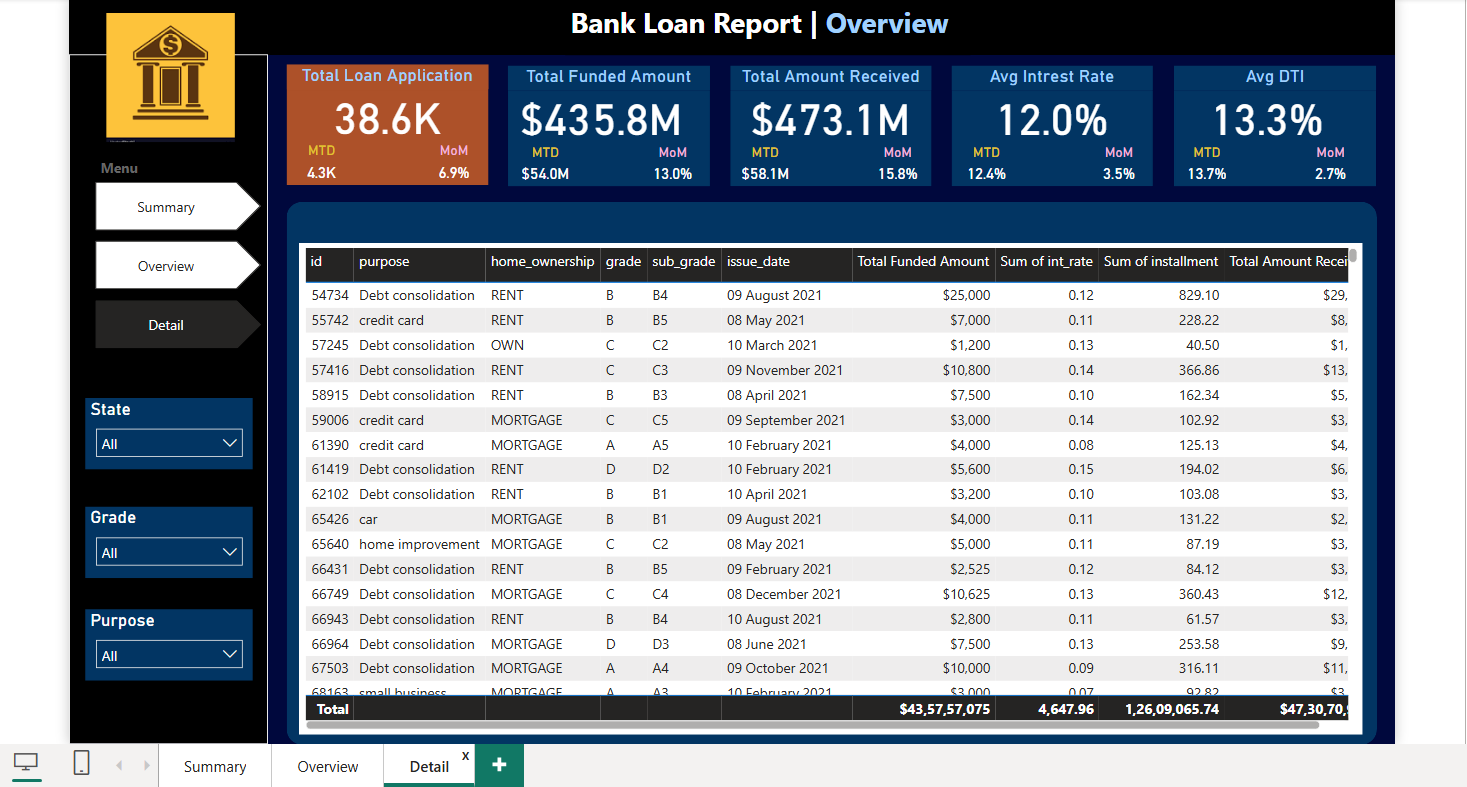

The dashboard page shown, as its layout file describes it:
{"tool":"powerbi","page":{"name":"Detail","canvas":[1280,720],"ordinal":2},"visuals":[{"type":"shape","box":[0,0,1280.3,55],"z":0},{"type":"pageNavigator","box":[25.1,177.4,160.5,161.9],"z":0,"group":"g7"},{"type":"shape","box":[0,54.9,192.1,665.5],"z":1000},{"type":"textbox","box":[25.1,150,75.5,27.4],"z":1000,"group":"g7"},{"type":"textbox","box":[478.9,0,391.1,54.9],"z":2000},{"type":"image","box":[10,10,177,134.5],"z":2000,"group":"g7"},{"type":"group","id":"g1","title":"Group 1","box":[210,64,195.4,117],"z":3000,"group":"g6"},{"type":"shape","title":"Total Loan Application","box":[210.5,64,194.9,116.6],"z":3000,"group":"g1"},{"type":"shape","title":"Avg Intrest Rate","box":[852.5,65,194.2,116.6],"z":3000,"group":"g3"},{"type":"shape","title":"Total Funded Amount","box":[424,65.1,195,117],"z":3000,"group":"g4"},{"type":"shape","title":"Total Amount Received","box":[638.5,65.1,194.2,116.6],"z":3000,"group":"g2"},{"type":"shape","title":"Avg DTI","box":[1066.6,65.1,195,117],"z":3000,"group":"g5"},{"type":"group","id":"g2","title":"Group 1","box":[638,65.1,195.4,117],"z":4000,"group":"g6"},{"type":"card","fields":{"Values":["Table.Total Loan Application"]},"box":[229.3,91.7,156.8,48.3],"z":4000,"group":"g1"},{"type":"card","fields":{"Values":["Table.Average Intrest Rate"]},"box":[852.6,92.7,191.2,48.3],"z":4000,"group":"g3"},{"type":"card","fields":{"Values":["Table.Total Funded Amount"]},"box":[424,92.8,180.8,48.3],"z":4000,"group":"g4"},{"type":"card","fields":{"Values":["Table.Total Amount Received"]},"box":[638.6,92.8,191.2,48.3],"z":4000,"group":"g2"},{"type":"card","fields":{"Values":["Table.Average DTI"]},"box":[1066.6,92.9,179.4,48.3],"z":4000,"group":"g5"},{"type":"group","id":"g3","title":"Group 1","box":[852,65,195.4,117],"z":5000,"group":"g6"},{"type":"card","title":"MTD","fields":{"Values":["Table.MTD Loan Application"]},"box":[210,139.9,67.6,41],"z":5000,"group":"g1"},{"type":"card","title":"MTD","fields":{"Values":["Table.MTD Average Intrest Rate"]},"box":[852,140.9,67.3,41],"z":5000,"group":"g3"},{"type":"card","title":"MTD","fields":{"Values":["Table.MTD Total Amount Recieved"]},"box":[638,141,67.3,41],"z":5000,"group":"g2"},{"type":"card","title":"MTD","fields":{"Values":["Table.MTD TOtal Funded Amount"]},"box":[424,141.1,72.3,41],"z":5000,"group":"g4"},{"type":"card","title":"MTD","fields":{"Values":["Table.MTD Average DTI"]},"box":[1066,141.1,63.2,41],"z":5000,"group":"g5"},{"type":"group","id":"g4","title":"Group 2","box":[424,65.1,195,117],"z":6000,"group":"g6"},{"type":"card","title":"MoM","fields":{"Values":["Table.MOM Loan Application"]},"box":[337.9,139.9,67.6,41],"z":6000,"group":"g1"},{"type":"card","title":"MoM","fields":{"Values":["Table.MOM Average Intrest Rate"]},"box":[979.5,140.9,67.3,41],"z":6000,"group":"g3"},{"type":"card","title":"MoM","fields":{"Values":["Table.MOM Amount Recived"]},"box":[765.5,141,67.3,41],"z":6000,"group":"g2"},{"type":"card","title":"MoM","fields":{"Values":["Table.MOM Funded Amount"]},"box":[546.7,141.1,72.3,41],"z":6000,"group":"g4"},{"type":"card","title":"MoM","fields":{"Values":["Table.MOM Average DTI"]},"box":[1185.6,141.1,63.2,41],"z":6000,"group":"g5"},{"type":"group","id":"g5","title":"Group 1","box":[1066,65.1,195.6,117],"z":7000,"group":"g6"},{"type":"slicer","title":"State","fields":{"Values":["Financial_loan.address_state"]},"box":[15.1,385.6,161.9,68.6],"z":9000},{"type":"slicer","title":"Grade","fields":{"Values":["Financial_loan.grade"]},"box":[15.1,491.3,161.9,68.6],"z":10000},{"type":"slicer","title":"Purpose","fields":{"Values":["Financial_loan.purpose"]},"box":[15.1,590.1,161.9,68.6],"z":11000},{"type":"group","id":"g6","title":"Group 5","box":[210,64,1051.6,118.2],"z":12000},{"type":"shape","box":[209.9,196.2,1052.5,524.2],"z":12001},{"type":"tableEx","fields":{"Values":["Financial_loan.id","Financial_loan.purpose","Financial_loan.home_ownership","Financial_loan.grade","Financial_loan.sub_grade","Financial_loan.issue_date","Table.Total Funded Amount","Sum(Financial_loan.int_rate)","Sum(Financial_loan.installment)","Table.Total Amount Received"]},"box":[222.3,236,1026.4,474.8],"z":12002},{"type":"group","id":"g7","title":"Group 3","box":[10,10,177,329.3],"z":12003}]}

Visuals, with their boxes on the page's 1280x720 design canvas (x1, y1, x2, y2). These are canvas units, not pixel positions in the 1467x787 screenshot, which may show the page scaled, cropped or inside an application window:
shape: [x1=0, y1=0, x2=1280, y2=55]
pageNavigator: [x1=25, y1=177, x2=186, y2=339]
shape: [x1=0, y1=55, x2=192, y2=720]
textbox: [x1=25, y1=150, x2=101, y2=177]
textbox: [x1=479, y1=0, x2=870, y2=55]
image: [x1=10, y1=10, x2=187, y2=144]
"Group 1" group: [x1=210, y1=64, x2=405, y2=181]
"Total Loan Application" shape: [x1=210, y1=64, x2=405, y2=181]
"Avg Intrest Rate" shape: [x1=852, y1=65, x2=1047, y2=182]
"Total Funded Amount" shape: [x1=424, y1=65, x2=619, y2=182]
"Total Amount Received" shape: [x1=638, y1=65, x2=833, y2=182]
"Avg DTI" shape: [x1=1067, y1=65, x2=1262, y2=182]
"Group 1" group: [x1=638, y1=65, x2=833, y2=182]
card - Table.Total Loan Application: [x1=229, y1=92, x2=386, y2=140]
card - Table.Average Intrest Rate: [x1=853, y1=93, x2=1044, y2=141]
card - Table.Total Funded Amount: [x1=424, y1=93, x2=605, y2=141]
card - Table.Total Amount Received: [x1=639, y1=93, x2=830, y2=141]
card - Table.Average DTI: [x1=1067, y1=93, x2=1246, y2=141]
"Group 1" group: [x1=852, y1=65, x2=1047, y2=182]
"MTD" card: [x1=210, y1=140, x2=278, y2=181]
"MTD" card: [x1=852, y1=141, x2=919, y2=182]
"MTD" card: [x1=638, y1=141, x2=705, y2=182]
"MTD" card: [x1=424, y1=141, x2=496, y2=182]
"MTD" card: [x1=1066, y1=141, x2=1129, y2=182]
"Group 2" group: [x1=424, y1=65, x2=619, y2=182]
"MoM" card: [x1=338, y1=140, x2=406, y2=181]
"MoM" card: [x1=980, y1=141, x2=1047, y2=182]
"MoM" card: [x1=766, y1=141, x2=833, y2=182]
"MoM" card: [x1=547, y1=141, x2=619, y2=182]
"MoM" card: [x1=1186, y1=141, x2=1249, y2=182]
"Group 1" group: [x1=1066, y1=65, x2=1262, y2=182]
"State" slicer: [x1=15, y1=386, x2=177, y2=454]
"Grade" slicer: [x1=15, y1=491, x2=177, y2=560]
"Purpose" slicer: [x1=15, y1=590, x2=177, y2=659]
"Group 5" group: [x1=210, y1=64, x2=1262, y2=182]
shape: [x1=210, y1=196, x2=1262, y2=720]
tableEx - Financial_loan.id x Financial_loan.purpose: [x1=222, y1=236, x2=1249, y2=711]
"Group 3" group: [x1=10, y1=10, x2=187, y2=339]
